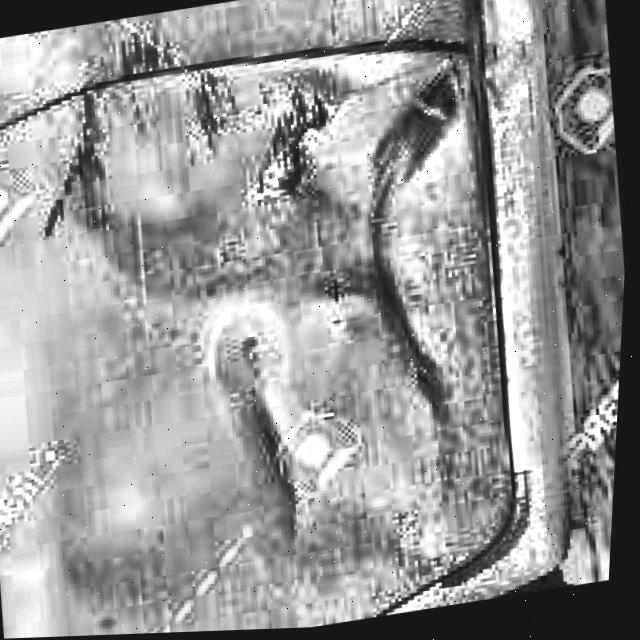door_dent: (50, 0, 495, 532)
